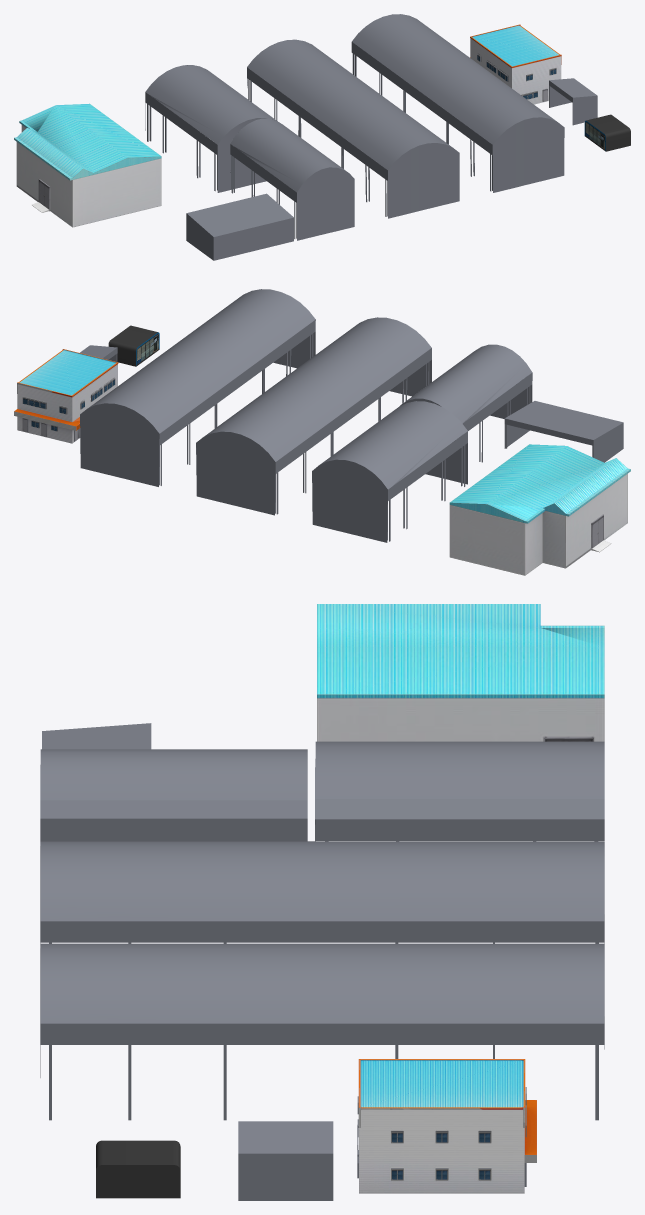
Rendered from soubrain_T8.glb.
3 views of the same model, one above another, from view 1: azimuth 30°, elevation 25°; view 2: azimuth 150°, elevation 25°; view 3: azimuth 270°, elevation 25° (orthographic). The views are drawn at different scales.
Parts seen in each view (by area): view 1: Box1674, Box1739, Box032, Box007, T8-3, Box1740, Box009, Box1694, box080, Box1738; view 2: Box1739, Box1674, Box032, T8-3, Box007, Box009, Box1740, box080, Box1738, Box1694; view 3: Box1674, Box1739, Box032, T8-3, Box007, Box009, Box1694, box080, Box1740, Box1738.
Boxes of the visible parts, x1=… form: Box1674: x1=351, y1=14, x2=564, y2=192; Box1739: x1=247, y1=39, x2=459, y2=218; Box032: x1=14, y1=103, x2=161, y2=227; Box007: x1=230, y1=118, x2=354, y2=240; T8-3: x1=145, y1=65, x2=276, y2=192; Box1740: x1=186, y1=193, x2=293, y2=260; Box009: x1=470, y1=24, x2=561, y2=104; Box1694: x1=549, y1=78, x2=597, y2=125; box080: x1=584, y1=114, x2=630, y2=151; Box1738: x1=477, y1=54, x2=556, y2=99; Box1739: x1=196, y1=317, x2=431, y2=515; Box1674: x1=80, y1=289, x2=315, y2=486; Box032: x1=449, y1=444, x2=630, y2=575; T8-3: x1=312, y1=401, x2=467, y2=542; Box007: x1=399, y1=344, x2=532, y2=462; Box009: x1=14, y1=349, x2=118, y2=443; Box1740: x1=504, y1=401, x2=623, y2=462; box080: x1=108, y1=325, x2=159, y2=366; Box1738: x1=22, y1=378, x2=115, y2=431; Box1694: x1=80, y1=345, x2=117, y2=361; Box1674: x1=40, y1=943, x2=604, y2=1120; Box1739: x1=40, y1=841, x2=604, y2=943; Box032: x1=317, y1=604, x2=604, y2=741; T8-3: x1=315, y1=741, x2=604, y2=841; Box007: x1=40, y1=749, x2=307, y2=841; Box009: x1=358, y1=1059, x2=536, y2=1193; Box1694: x1=238, y1=1121, x2=333, y2=1200; box080: x1=96, y1=1140, x2=180, y2=1198; Box1740: x1=42, y1=723, x2=151, y2=749; Box1738: x1=357, y1=1087, x2=526, y2=1180.
Bounding box in the file's own units: 93.32 × 11.43 × 44.45.
Materials: 10 (8 with a texture image).
